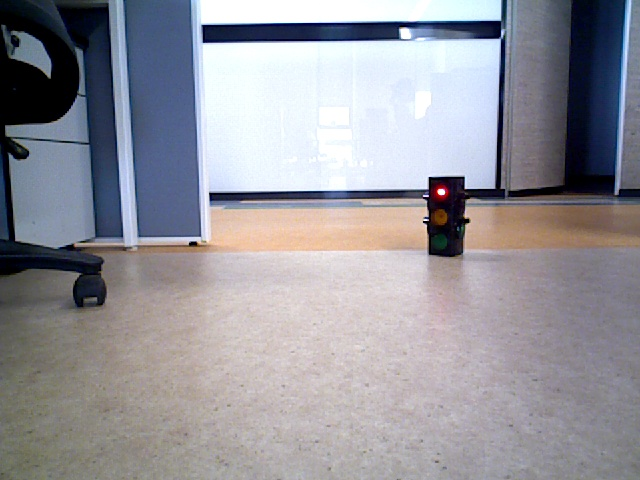red: (431, 177, 458, 254)
